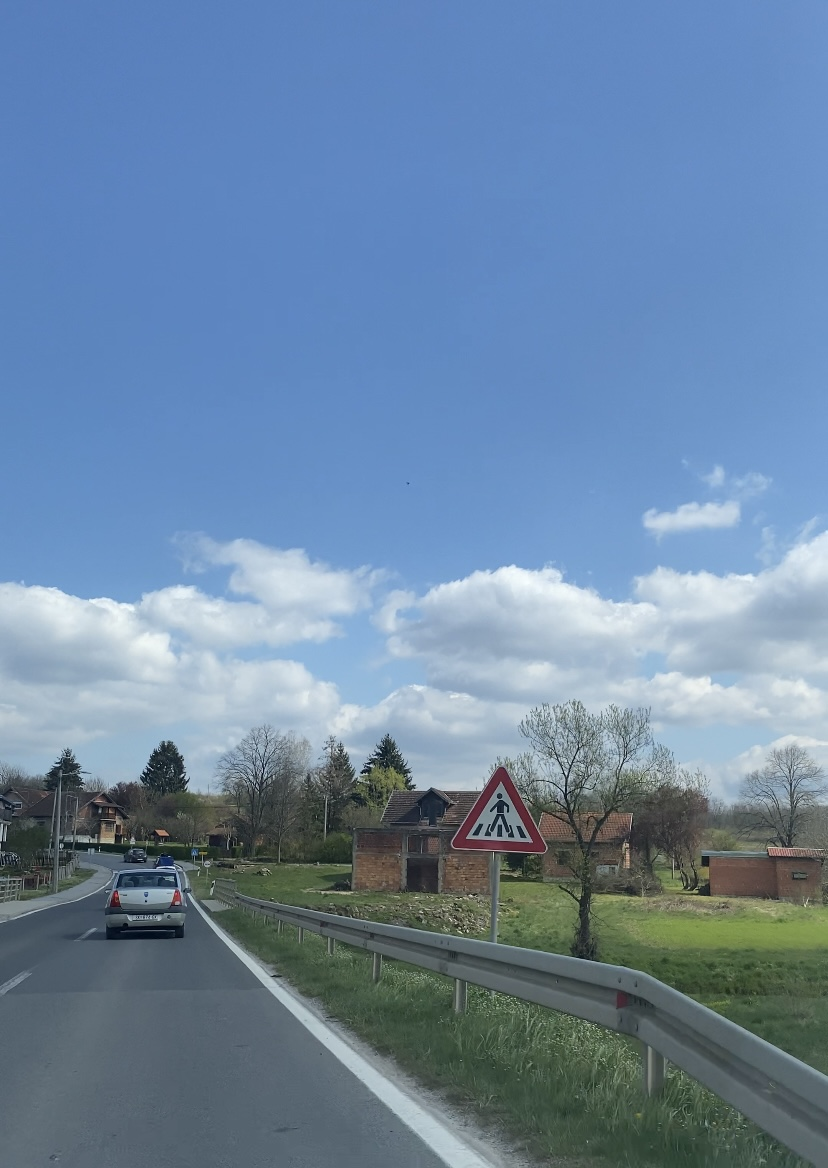Približavanje pješačkom prijelazu: (451, 765, 547, 854)
